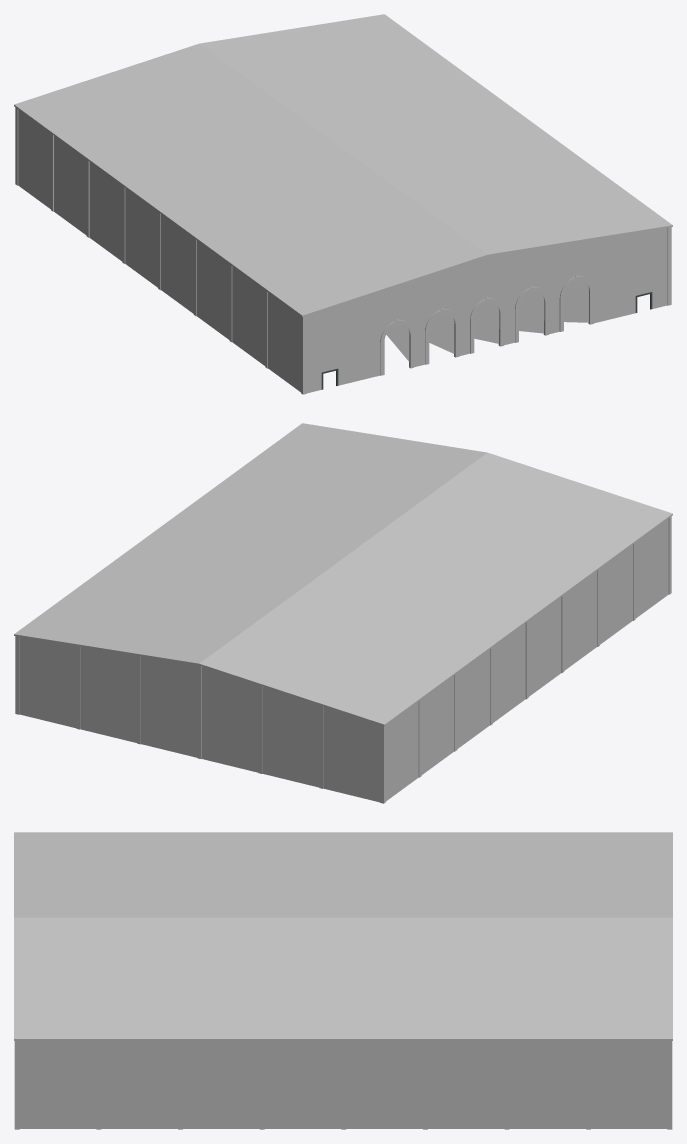
File: Locomotive_house.fbx
3 views of the same model, one above another, from view 1: azimuth 30°, elevation 25°; view 2: azimuth 150°, elevation 25°; view 3: azimuth 270°, elevation 25° (orthographic). The views are drawn at different scales.
Visible parts, largest first — view 1: Plane.079, Plane.077, Plane.080; view 2: Plane.079, Plane.077, Plane.080; view 3: Plane.079, Plane.077, Plane.080.
Part boxes in pixels (x1=…): Plane.079: x1=14, y1=14, x2=672, y2=316; Plane.077: x1=18, y1=109, x2=667, y2=393; Plane.080: x1=15, y1=107, x2=671, y2=394; Plane.079: x1=14, y1=423, x2=672, y2=725; Plane.077: x1=19, y1=518, x2=668, y2=802; Plane.080: x1=15, y1=516, x2=671, y2=803; Plane.079: x1=14, y1=832, x2=672, y2=1040; Plane.077: x1=19, y1=1041, x2=667, y2=1128; Plane.080: x1=14, y1=1041, x2=672, y2=1129.
Size of the model in its own units: 4957 by 1220 by 6681.
